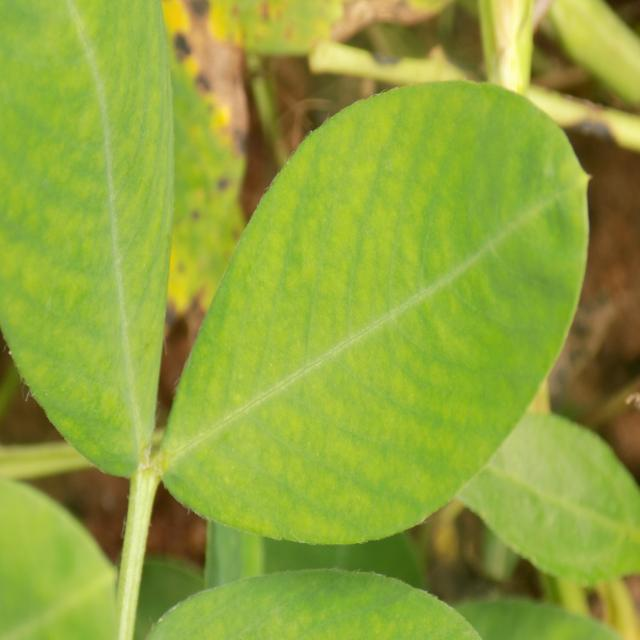Ground nut_healthy: (148, 75, 585, 549)
